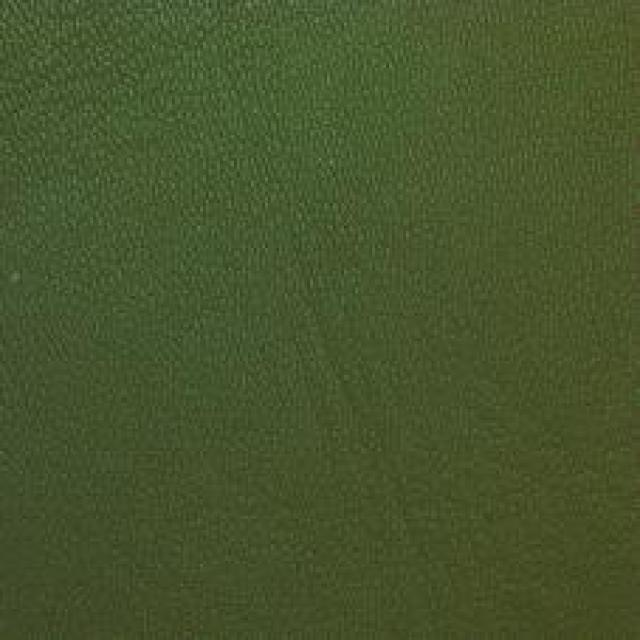Growth Marks: (17, 15, 224, 164), (265, 284, 432, 453)
